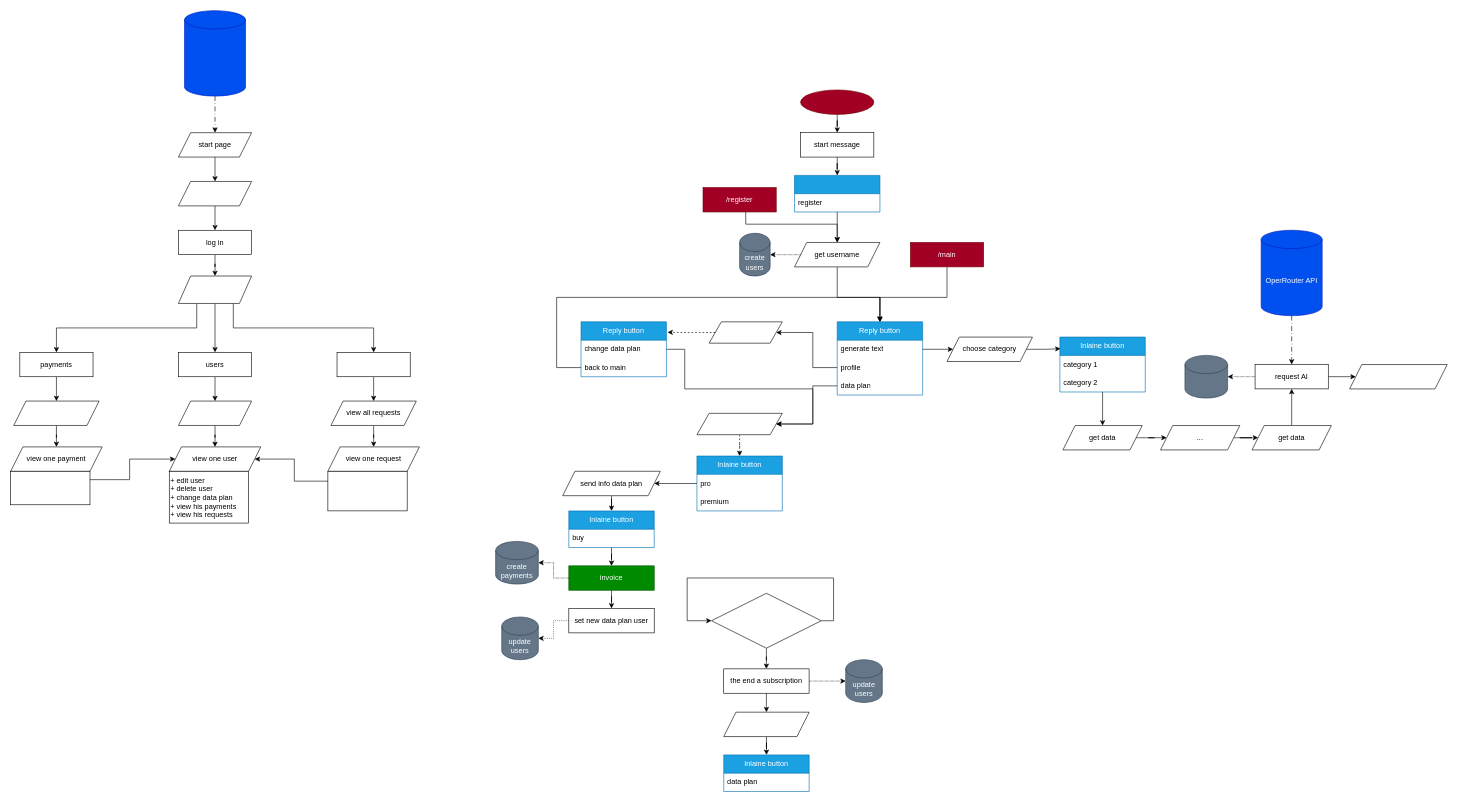
Image size: 1458x802. Some labels were removed from this diagram. Here are the shapes that lost their labels. From the top down, the box of each, then its label:
(184, 10, 246, 96): Fast API
(800, 89, 874, 114): /start
(178, 181, 252, 206): log in page
(794, 175, 880, 212): Inline button
(178, 275, 252, 303): main page
(709, 321, 782, 343): send profile
(336, 352, 410, 377): requests
(1184, 355, 1228, 398): create requests
(1349, 364, 1447, 389): send response AI
(13, 400, 99, 425): view all payments
(178, 400, 252, 425): view all users
(696, 413, 782, 435): send data plans
(10, 471, 90, 505): + view one user + edit payment + delete payment
(327, 471, 407, 511): + view one user + edit request + delete request
(711, 593, 821, 648): checking the end of a subscription
(723, 712, 809, 737): send warning
